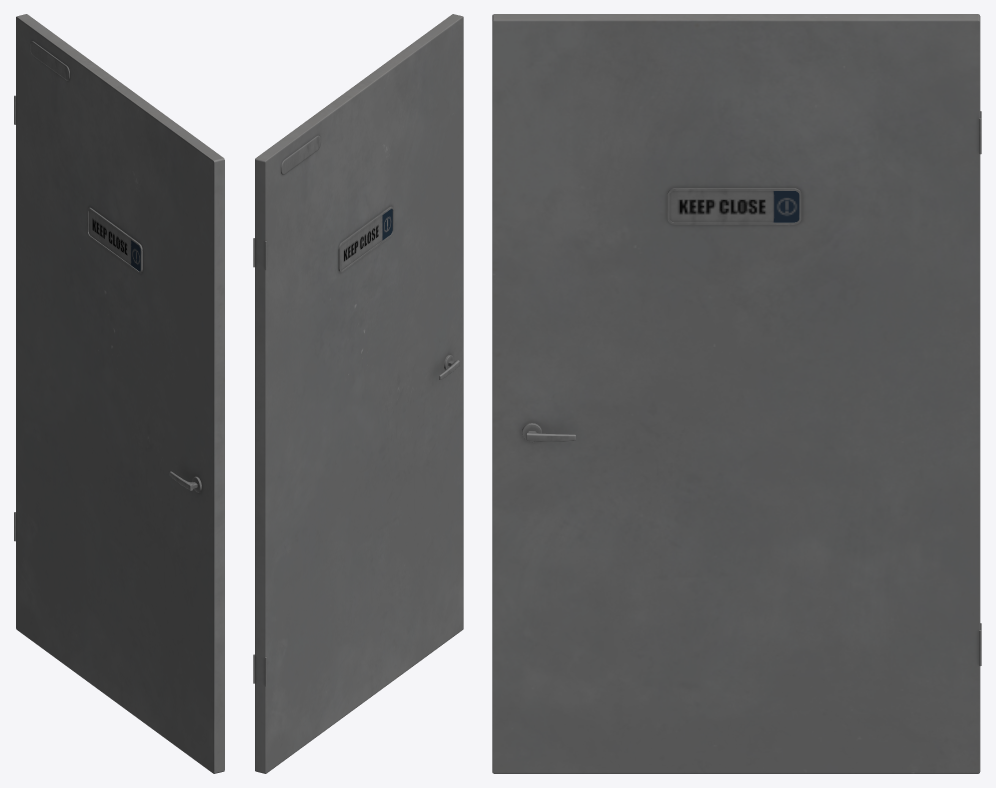
The model's file is SM_Door_01a.fbx.
3 renders of one model, left to right at view 1: azimuth 30°, elevation 25°; view 2: azimuth 150°, elevation 25°; view 3: azimuth 270°, elevation 25°, orthographic. The views are drawn at different scales.
Parts seen in each view (by area): view 1: SM_Door_01a_LOD0; view 2: SM_Door_01a_LOD0; view 3: SM_Door_01a_LOD0.
Part boxes in pixels (bbox=[...]): SM_Door_01a_LOD0: bbox=[14, 14, 224, 773]; SM_Door_01a_LOD0: bbox=[253, 14, 463, 773]; SM_Door_01a_LOD0: bbox=[492, 14, 981, 773].
Bounding box in the file's own units: 13.95 × 145 × 246.
1 material, 1 textured.
